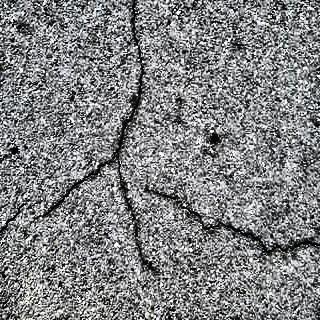crack: (32, 148, 116, 216), (115, 0, 144, 156), (143, 186, 225, 234), (116, 154, 148, 268), (220, 222, 320, 258), (1, 200, 26, 237)
